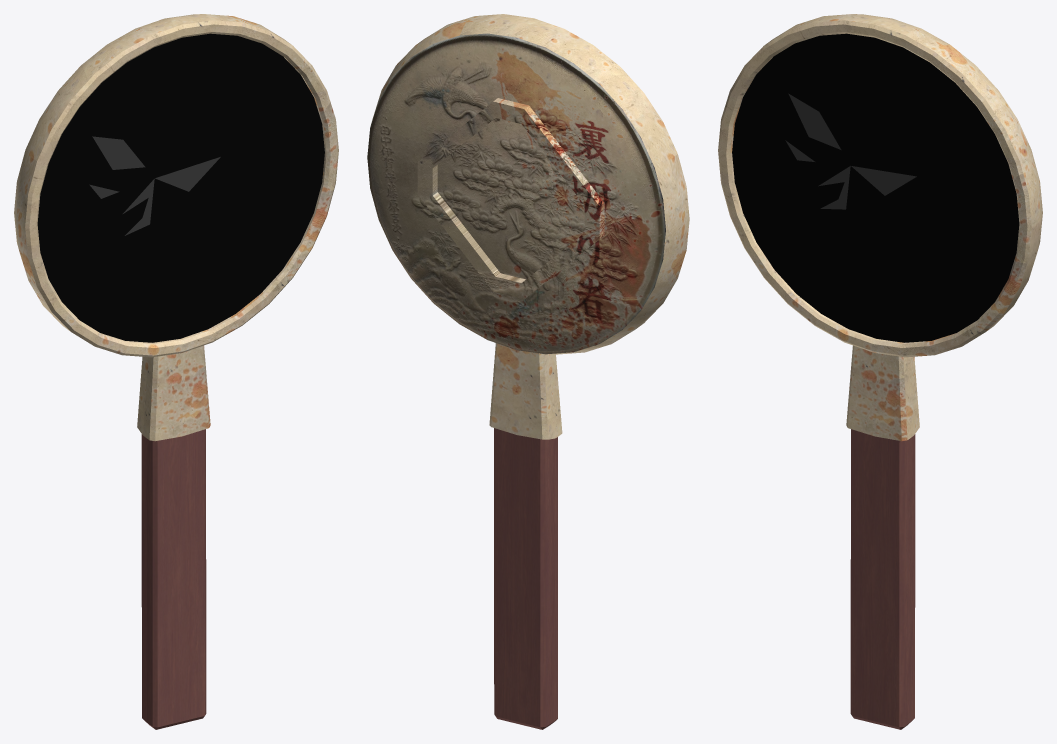
Rendered from Spiegel_Baked.fbx.
The picture shows the model from 3 angles, left to right: view 1: azimuth 30°, elevation 25°; view 2: azimuth 150°, elevation 25°; view 3: azimuth 330°, elevation 25°; orthographic projection.
Parts seen in each view (by area): view 1: Spiegel 3, Spiegel 5, Spiegel 6, Spiegel 4, Spiegel 2.001; view 2: Spiegel 2, Spiegel 5, Spiegel 6, Spiegel 1, Spiegel 4; view 3: Spiegel 3, Spiegel 5, Spiegel 6, Spiegel 4, Spiegel 2.001.
Part boxes in pixels (x1,y1,x2,y2): Spiegel 3: [37, 33, 324, 342]; Spiegel 5: [141, 429, 206, 729]; Spiegel 6: [14, 14, 338, 357]; Spiegel 4: [137, 345, 210, 441]; Spiegel 2.001: [89, 136, 220, 235]; Spiegel 2: [367, 33, 665, 354]; Spiegel 5: [494, 428, 557, 729]; Spiegel 6: [372, 14, 689, 354]; Spiegel 1: [417, 98, 604, 299]; Spiegel 4: [489, 343, 562, 439]; Spiegel 3: [732, 33, 1019, 342]; Spiegel 5: [850, 429, 915, 729]; Spiegel 6: [718, 14, 1042, 357]; Spiegel 4: [846, 345, 919, 441]; Spiegel 2.001: [785, 93, 916, 209].
Size of the model in its own units: 51.66 by 110 by 7.89.
Materials: 5 (4 with a texture image).
